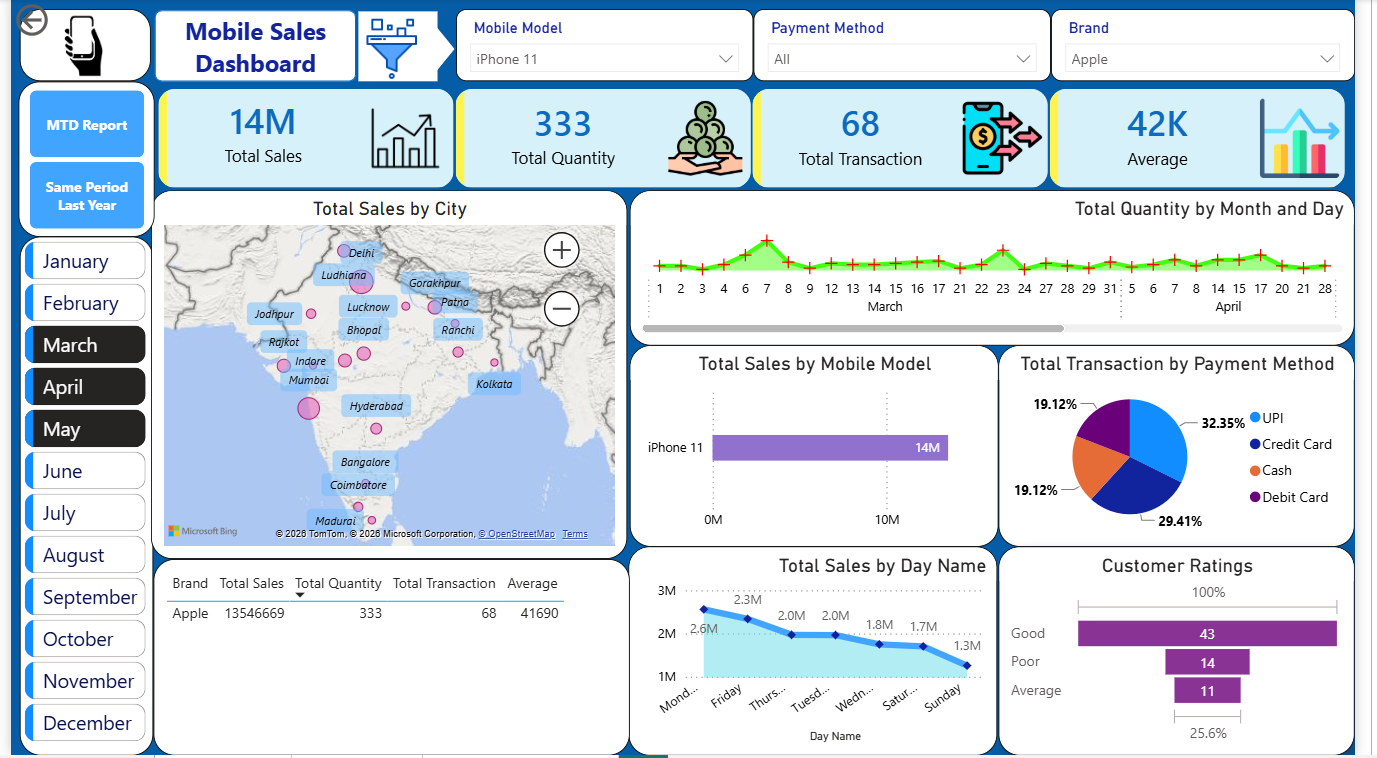

Layout of this report page (visuals, bound fields, positions):
{"tool":"powerbi","page":{"name":"Mobile Sales","canvas":[1280,720],"ordinal":0},"visuals":[{"type":"shape","box":[385.7,25,36.9,45.2],"z":0},{"type":"shape","box":[8.3,9.5,125,69],"z":1000},{"type":"shape","box":[8.3,226.2,127.4,494.1],"z":2000},{"type":"cardVisual","fields":{"Data":["Mobile_Sales_Data.Total_Sales","Mobile_Sales_Data.Total_Quantity","Mobile_Sales_Data.Total_Transaction","Mobile_Sales_Data.Average"]},"box":[133.3,78.6,1146.4,108.3],"z":3000},{"type":"map","fields":{"Category":["Mobile_Sales_Data.City"],"Size":["Mobile_Sales_Data.Total Sales"]},"box":[133.3,182.1,453.6,351.2],"z":4000},{"type":"lineChart","fields":{"Y":["Mobile_Sales_Data.Total Quantity"],"Category":["Custom Calendar.Date.Variation.Date Hierarchy.Month","Custom Calendar.Date.Variation.Date Hierarchy.Day"]},"box":[589.3,182.1,690.5,147.6],"z":5000},{"type":"barChart","fields":{"Category":["Mobile_Sales_Data.Mobile Model"],"Y":["Mobile_Sales_Data.Total Sales"]},"box":[589.3,329.8,351.2,191.7],"z":6000},{"type":"pieChart","fields":{"Category":["Mobile_Sales_Data.Payment Method"],"Y":["Mobile_Sales_Data.Total Transaction"]},"box":[940.5,329.8,339.3,191.7],"z":7000},{"type":"funnel","title":"Customer Ratings","fields":{"Y":["CountNonNull(Mobile_Sales_Data.Customer Ratings)"],"Category":["Mobile_Sales_Data.Rating Status"]},"box":[940.5,521.4,339.3,198.8],"z":8000},{"type":"areaChart","fields":{"Category":["Mobile_Sales_Data.Day Name"],"Y":["Mobile_Sales_Data.Total Sales"]},"box":[588.1,521.4,351.2,198.8],"z":9000},{"type":"tableEx","fields":{"Values":["Mobile_Sales_Data.Brand","Mobile_Sales_Data.Total Sales","Mobile_Sales_Data.Total Quantity","Mobile_Sales_Data.Total Transaction","Mobile_Sales_Data.Average"]},"box":[135.7,533.3,453.6,186.9],"z":10000},{"type":"actionButton","box":[0,0,100,40],"z":11000},{"type":"slicer","fields":{"Values":["Mobile_Sales_Data.Payment Method"]},"box":[707.1,9.5,283.3,69],"z":12000},{"type":"image","box":[1.2,14.3,135.7,60.7],"z":13000},{"type":"shape","box":[7.1,78.6,129.8,147.6],"z":14000},{"type":"advancedSlicerVisual","fields":{"Values":["Custom Calendar.Date.Variation.Date Hierarchy.Month"]},"box":[8.3,226.2,125,494.1],"z":15000},{"type":"slicer","fields":{"Values":["Mobile_Sales_Data.Mobile Model"]},"box":[423.8,9.5,283.3,69],"z":16000},{"type":"slicer","fields":{"Values":["Mobile_Sales_Data.Brand"]},"box":[990.5,9.5,289.3,69],"z":17000},{"type":"shape","box":[331,11.9,75,66.7],"z":18000},{"type":"image","box":[322.6,17.9,79.8,59.5],"z":19000},{"type":"shape","box":[136.9,10.7,191.7,67.9],"z":20000},{"type":"pageNavigator","box":[17.9,86.9,109.5,132.1],"z":20001}]}

Visuals, with their boxes in screenshot pixels (x1, y1, x2, y2), scaled from the page's 1280x720 canvas onto the 1377x758 screenshot:
shape: x1=415 y1=26 x2=455 y2=74
shape: x1=9 y1=10 x2=143 y2=83
shape: x1=9 y1=238 x2=146 y2=757
cardVisual - Mobile_Sales_Data.Total_Sales x Mobile_Sales_Data.Total_Quantity: x1=143 y1=83 x2=1376 y2=197
map - Mobile_Sales_Data.City x Mobile_Sales_Data.Total Sales: x1=143 y1=192 x2=631 y2=561
lineChart - Mobile_Sales_Data.Total Quantity x Custom Calendar.Date.Variation.Date Hierarchy.Month: x1=634 y1=192 x2=1376 y2=347
barChart - Mobile_Sales_Data.Mobile Model x Mobile_Sales_Data.Total Sales: x1=634 y1=347 x2=1012 y2=549
pieChart - Mobile_Sales_Data.Payment Method x Mobile_Sales_Data.Total Transaction: x1=1012 y1=347 x2=1376 y2=549
"Customer Ratings" funnel: x1=1012 y1=549 x2=1376 y2=757
areaChart - Mobile_Sales_Data.Day Name x Mobile_Sales_Data.Total Sales: x1=633 y1=549 x2=1010 y2=757
tableEx - Mobile_Sales_Data.Brand x Mobile_Sales_Data.Total Sales: x1=146 y1=561 x2=634 y2=757
actionButton: x1=0 y1=0 x2=108 y2=42
slicer - Mobile_Sales_Data.Payment Method: x1=761 y1=10 x2=1065 y2=83
image: x1=1 y1=15 x2=147 y2=79
shape: x1=8 y1=83 x2=147 y2=238
advancedSlicerVisual - Custom Calendar.Date.Variation.Date Hierarchy.Month: x1=9 y1=238 x2=143 y2=757
slicer - Mobile_Sales_Data.Mobile Model: x1=456 y1=10 x2=761 y2=83
slicer - Mobile_Sales_Data.Brand: x1=1066 y1=10 x2=1376 y2=83
shape: x1=356 y1=13 x2=437 y2=83
image: x1=347 y1=19 x2=433 y2=81
shape: x1=147 y1=11 x2=354 y2=83
pageNavigator: x1=19 y1=91 x2=137 y2=231
